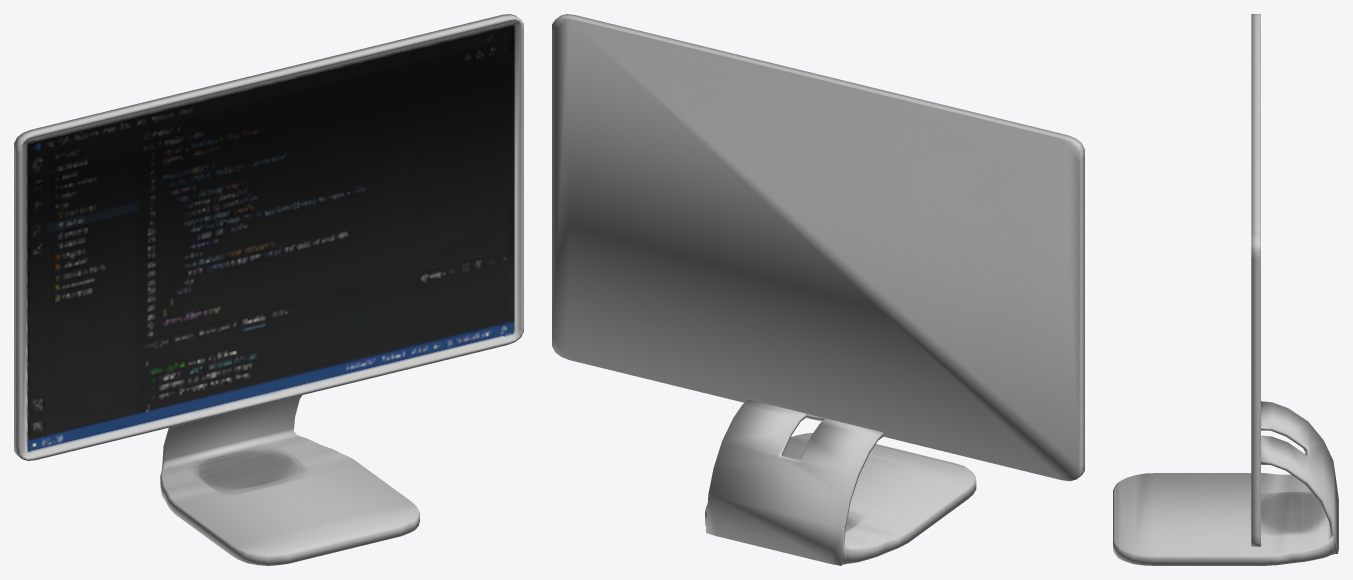
The model's file is monitor-v2.glb.
3 views of the same model, side by side, from view 1: azimuth 30°, elevation 25°; view 2: azimuth 150°, elevation 25°; view 3: azimuth 270°, elevation 25° (orthographic). The views are drawn at different scales.
Visible parts, largest first — view 1: tripo_node_3969c882-5c49-4f00-b46b-fe79afe157c1; view 2: tripo_node_3969c882-5c49-4f00-b46b-fe79afe157c1; view 3: tripo_node_3969c882-5c49-4f00-b46b-fe79afe157c1.
Part boxes in pixels (x1,y1,x2,y2): tripo_node_3969c882-5c49-4f00-b46b-fe79afe157c1: (14, 14, 523, 565); tripo_node_3969c882-5c49-4f00-b46b-fe79afe157c1: (552, 14, 1084, 565); tripo_node_3969c882-5c49-4f00-b46b-fe79afe157c1: (1113, 14, 1338, 565).
Size of the model in its own units: 0.998 by 0.7949 by 0.4082.
Materials: 1 (1 with a texture image).
